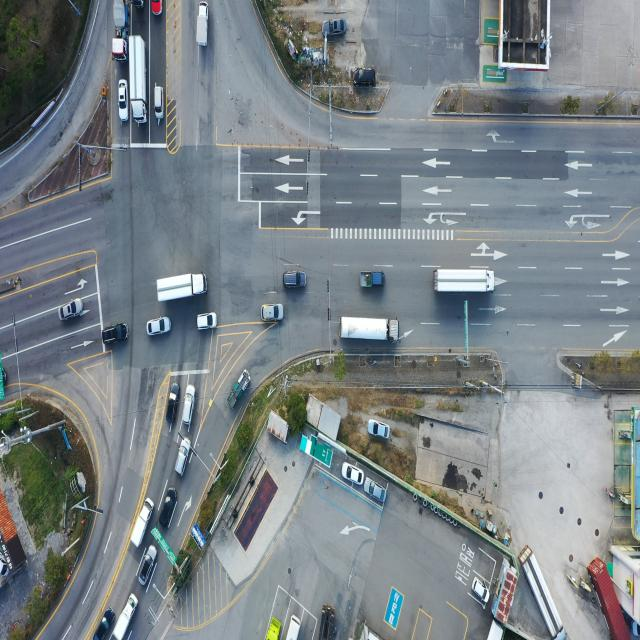car: (139, 543, 158, 586), (158, 486, 176, 530), (175, 436, 192, 477), (91, 611, 113, 640), (102, 324, 130, 346), (469, 576, 491, 604), (182, 383, 196, 425), (60, 299, 85, 322), (364, 480, 385, 504), (343, 462, 364, 486), (367, 419, 389, 440), (146, 318, 170, 337), (117, 81, 128, 122), (354, 67, 376, 86), (324, 19, 346, 38), (121, 83, 131, 124), (196, 314, 218, 332), (263, 304, 285, 322), (284, 272, 306, 290), (154, 86, 164, 120), (0, 364, 8, 386), (150, 0, 161, 15)
medium_truck: (522, 544, 566, 638), (130, 35, 150, 123), (436, 269, 497, 296), (339, 318, 399, 344), (158, 273, 208, 303), (115, 0, 131, 58), (320, 606, 338, 640)
small_bus: (285, 614, 302, 640)
small_truck: (132, 498, 155, 550), (116, 593, 140, 640), (229, 369, 251, 411), (164, 383, 178, 431), (198, 0, 210, 48), (360, 271, 386, 290), (266, 618, 282, 640)
